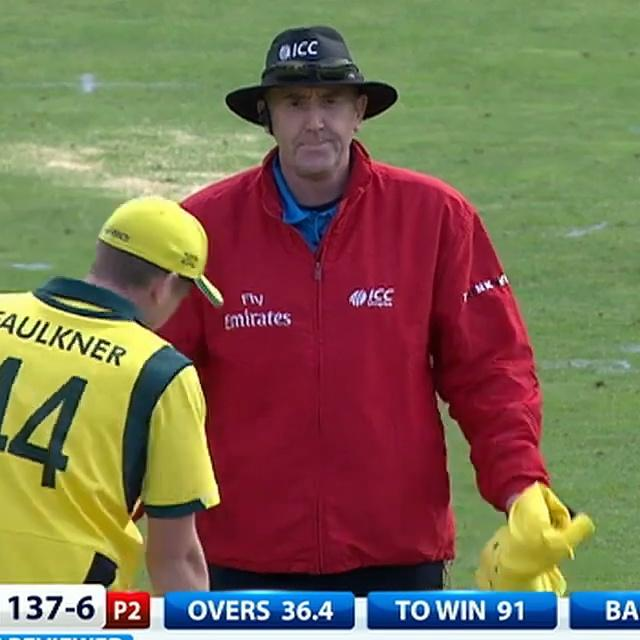umpire: (105, 0, 609, 591)
